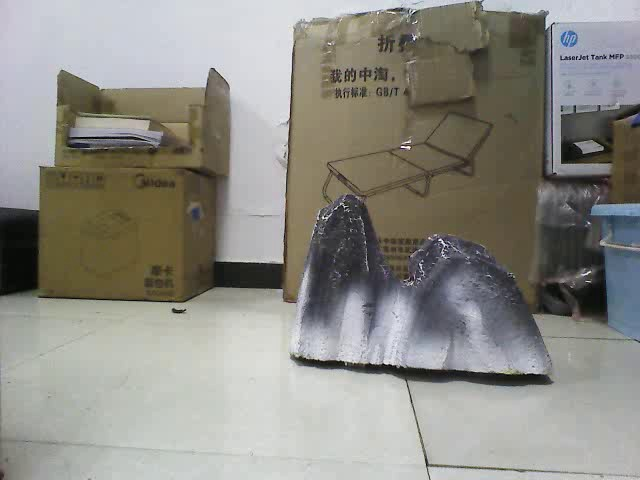rock: (288, 192, 558, 381)
